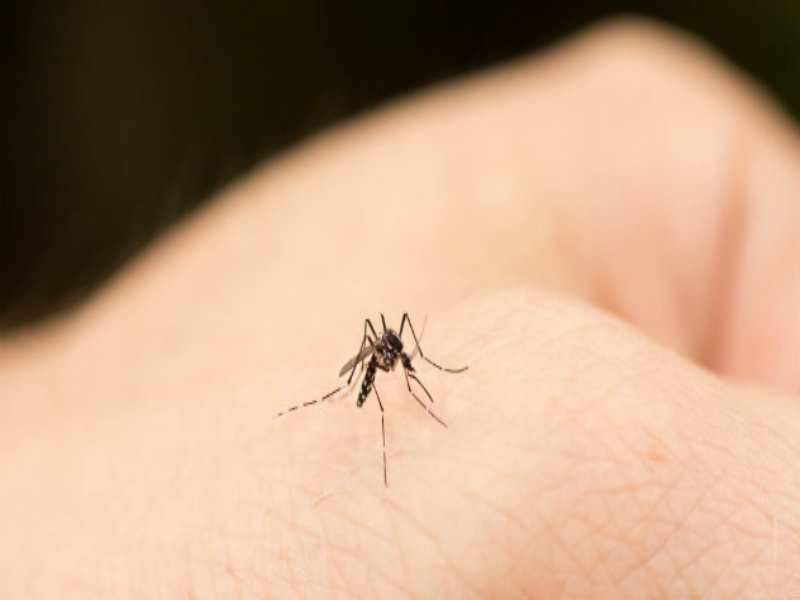dengue_mosquito: (306, 312, 444, 433)
